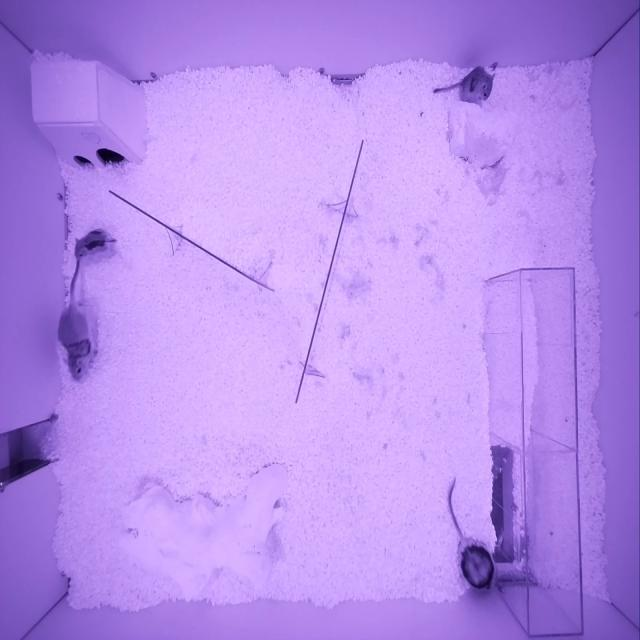adult_back: (456, 538, 497, 595)
adult_front: (58, 306, 95, 381)
pup_spotted: (458, 67, 495, 103)
pup_v_stripe: (75, 228, 108, 260)
